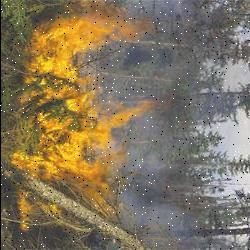fire: (15, 6, 157, 236)
